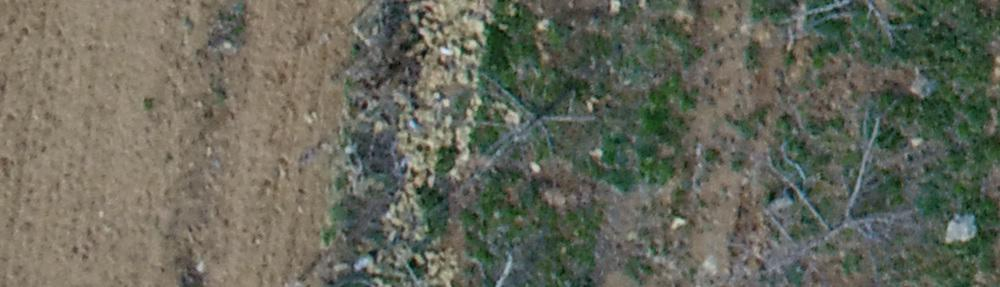apple: (739, 93, 956, 269), (456, 65, 610, 185)
